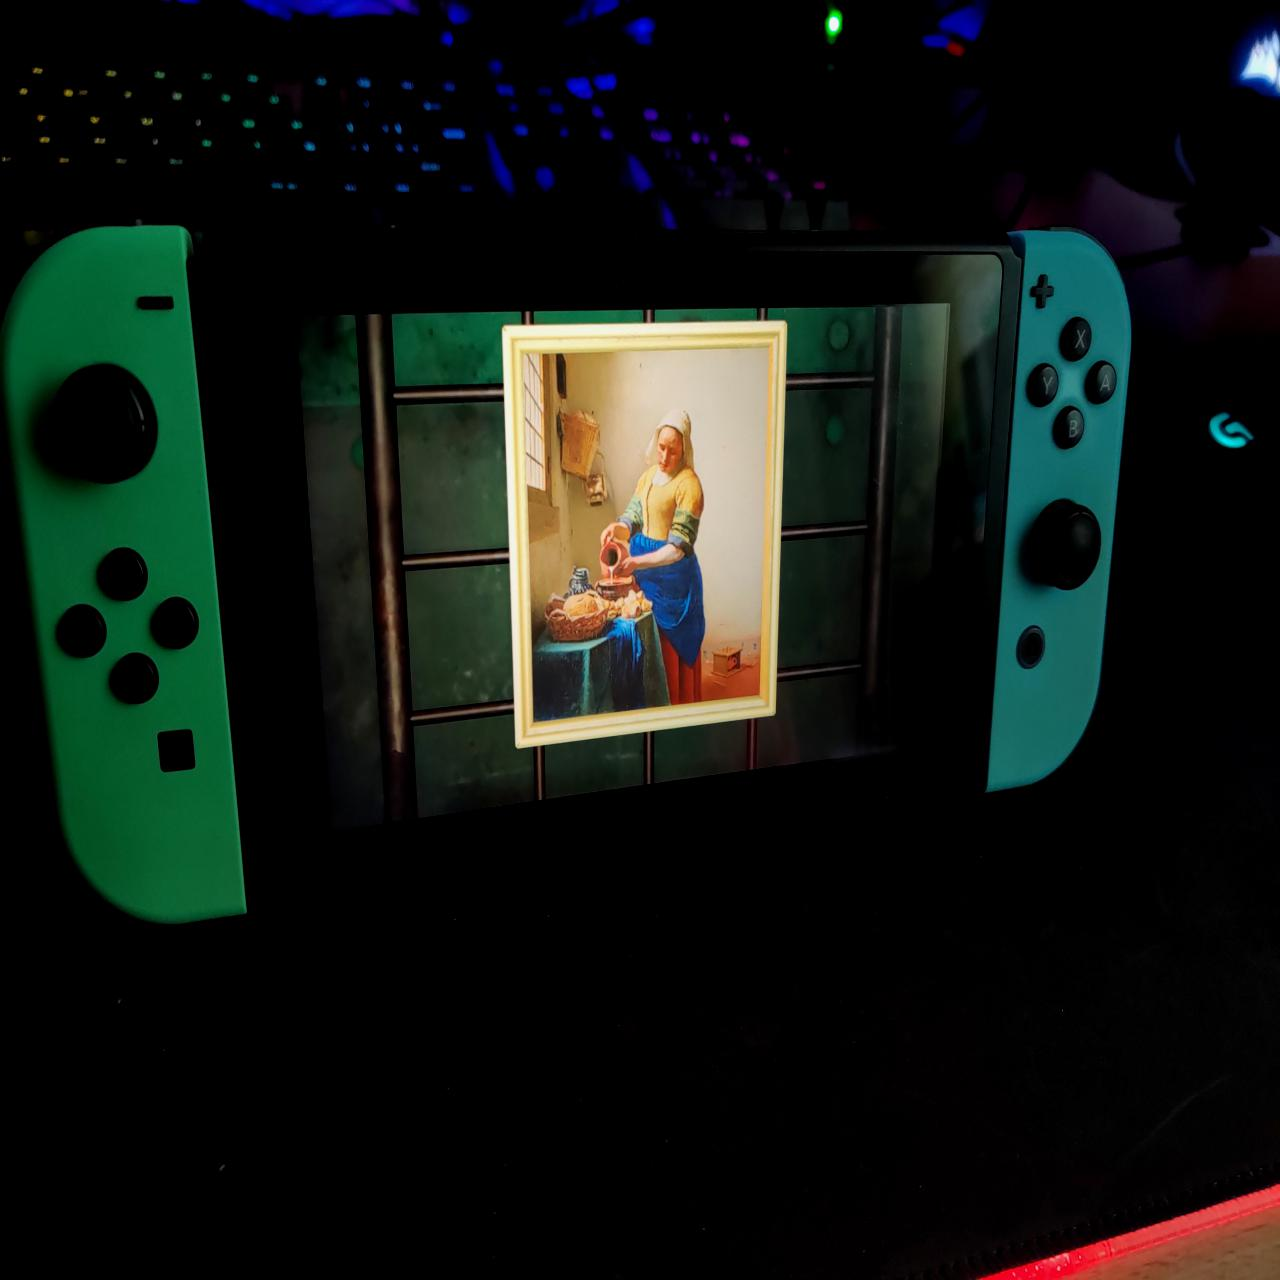Milkmaid: (524, 355, 770, 726)
